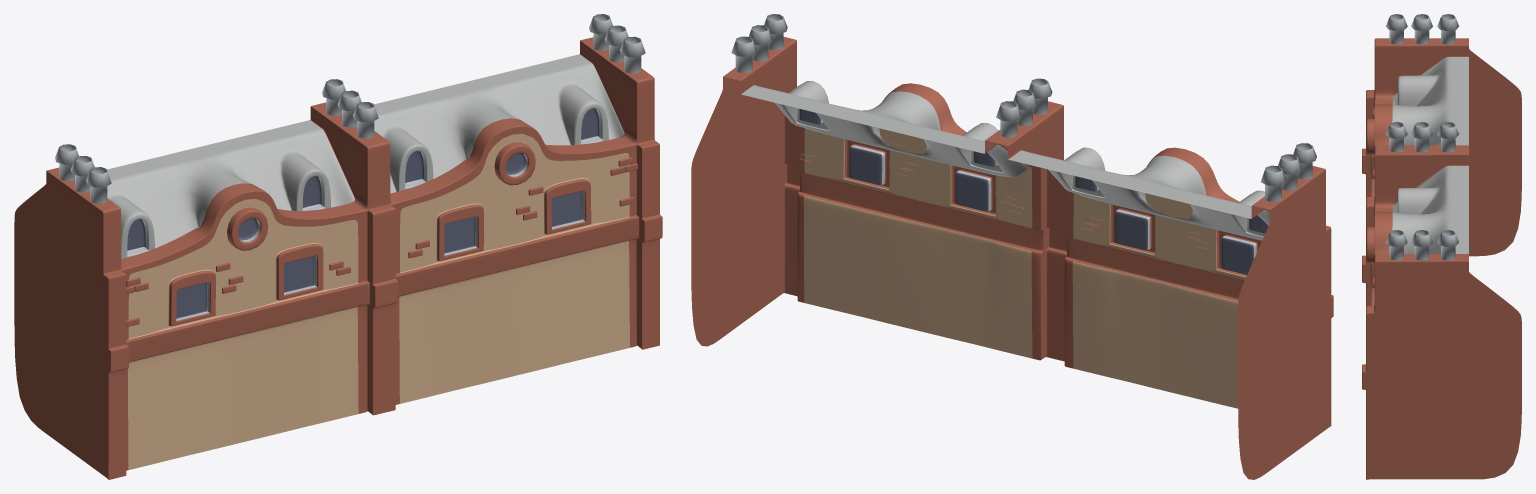
The model's file is Building-KingsRoad-01.fbx.
3 views of the same model, side by side, from view 1: azimuth 30°, elevation 25°; view 2: azimuth 150°, elevation 25°; view 3: azimuth 270°, elevation 25° (orthographic). The views are drawn at different scales.
Parts seen in each view (by area): view 1: Building01, SideChimneys, CenterChimney, Brick; view 2: Building01, SideChimneys, CenterChimney; view 3: Building01, SideChimneys, CenterChimney.
Part boxes in pixels (x1,y1,x2,y2): Building01: [14, 37, 662, 479]; SideChimneys: [55, 14, 645, 203]; CenterChimney: [322, 79, 378, 138]; Brick: [126, 157, 637, 326]; Building01: [691, 37, 1333, 479]; SideChimneys: [731, 14, 1316, 202]; CenterChimney: [996, 78, 1052, 137]; Building01: [1362, 38, 1521, 479]; SideChimneys: [1386, 14, 1459, 260]; CenterChimney: [1386, 122, 1459, 152].
Size of the model in its own units: 2542 by 1281 by 762.
